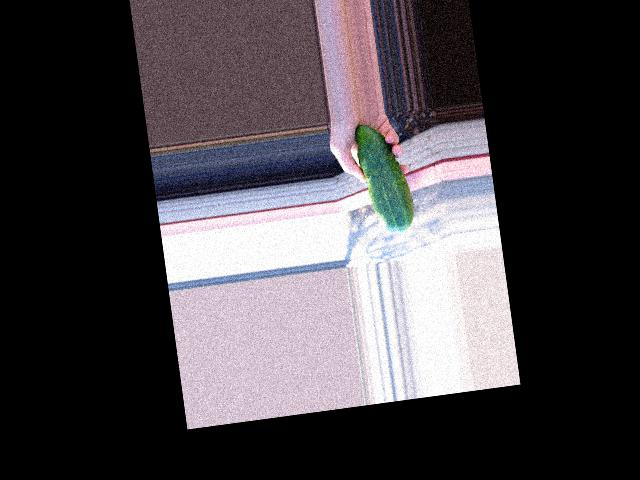cucumber: (354, 119, 417, 236)
